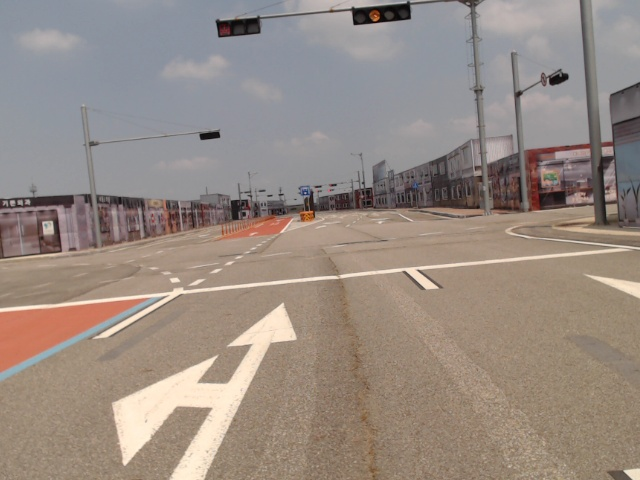orange_4: (352, 2, 412, 25)
